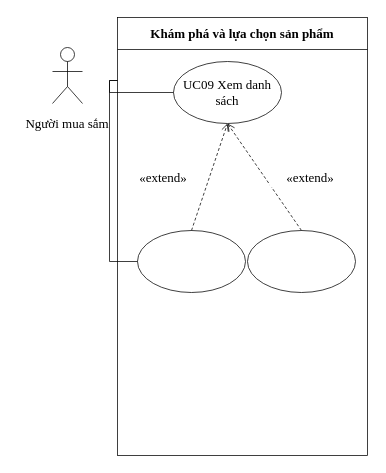
Image size: 386x473. Some labels were removed from this diagram. Here are the shapes that lost their labels. From the top down, the centre of each, then its label:
the point at 191,261: UC10 Tìm kiếm sản phẩm
the point at 301,261: UC11 Lọc sản phẩm
